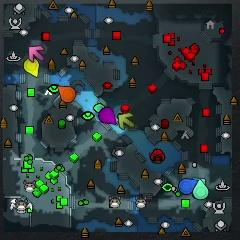p1: (179, 178, 199, 194)
p2: (193, 180, 209, 199)
p3: (100, 107, 117, 124)
p4: (24, 59, 39, 78)
p5: (58, 85, 75, 102)
x1: (28, 45, 44, 62)
x2: (119, 112, 134, 130)
x3: (194, 178, 206, 184)
